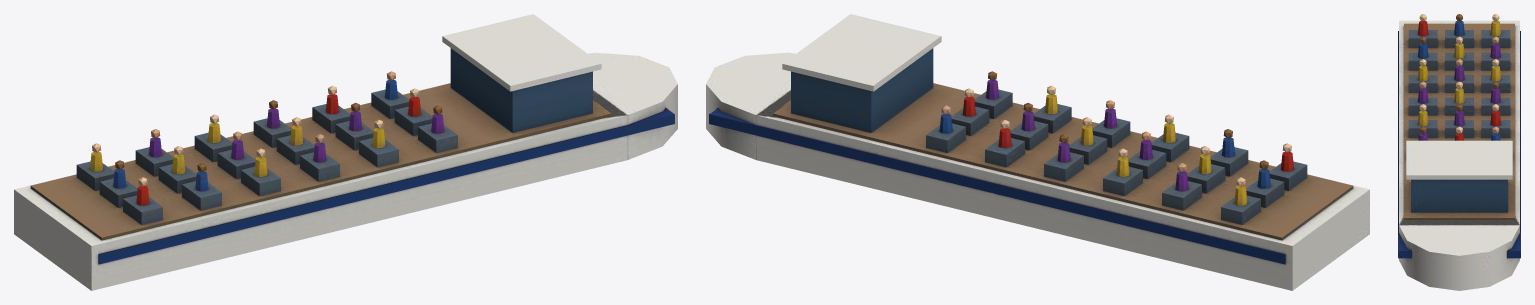
File: barco.glb
3 renders of one model, left to right at view 1: azimuth 30°, elevation 25°; view 2: azimuth 150°, elevation 25°; view 3: azimuth 270°, elevation 25°, orthographic. The views are drawn at different scales.
Visible parts, largest first — view 1: barco; view 2: barco; view 3: barco.
Boxes of the visible parts, x1,y1,x2,y2 form: barco: [14, 14, 677, 290]; barco: [706, 14, 1369, 290]; barco: [1398, 14, 1520, 290].
Bounding box in the file's own units: 23 × 3.5 × 5.08.
1 material, 1 textured.
